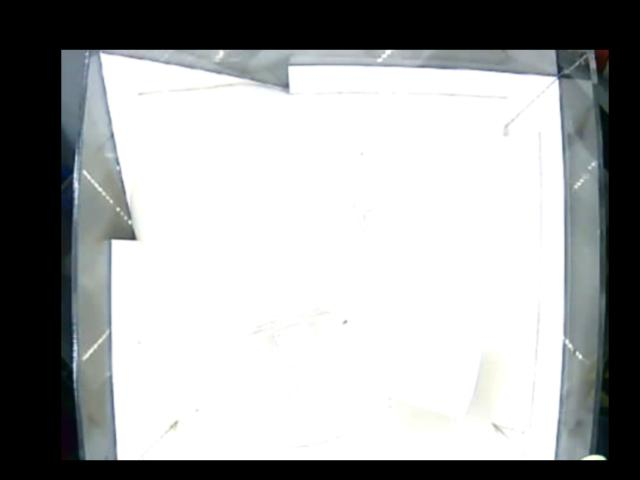Bottle: (242, 263, 363, 446), (320, 167, 451, 266)
Cup: (380, 332, 489, 419)
